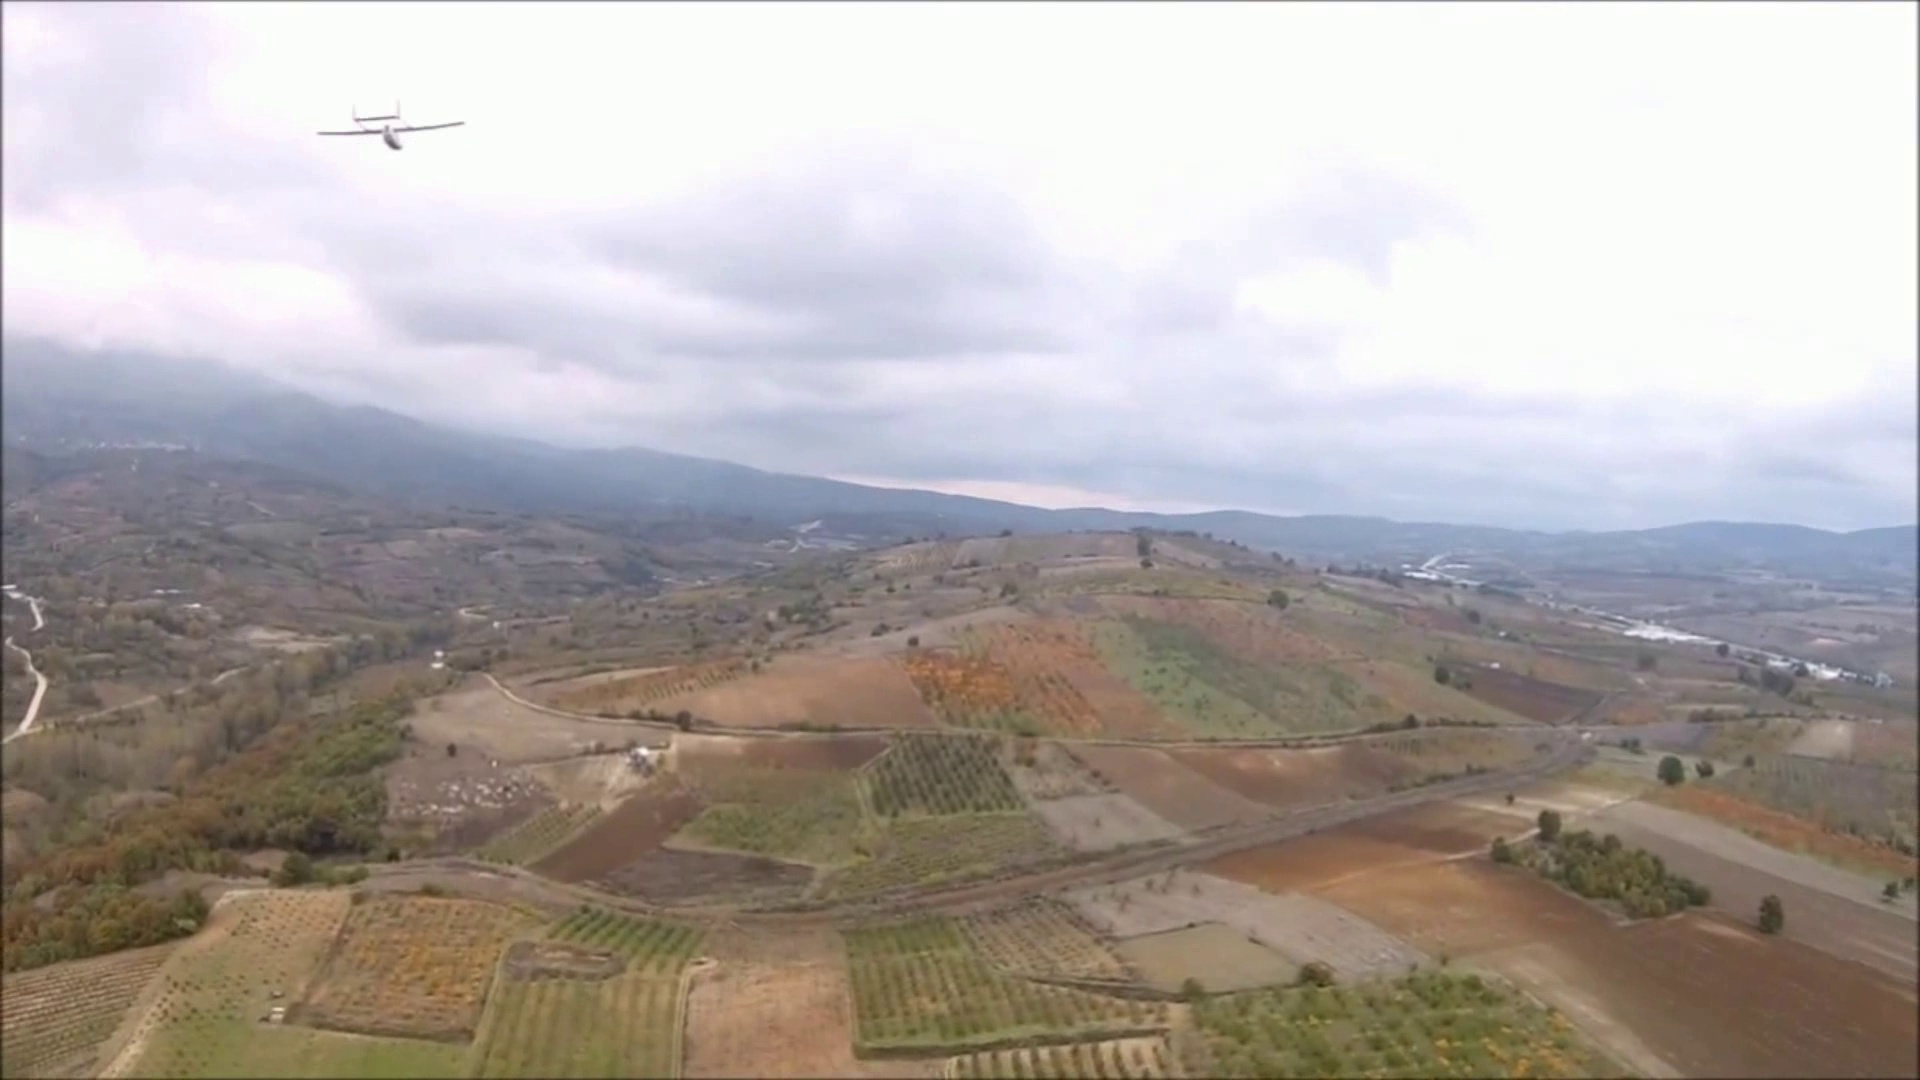airplane: (322, 105, 468, 150)
